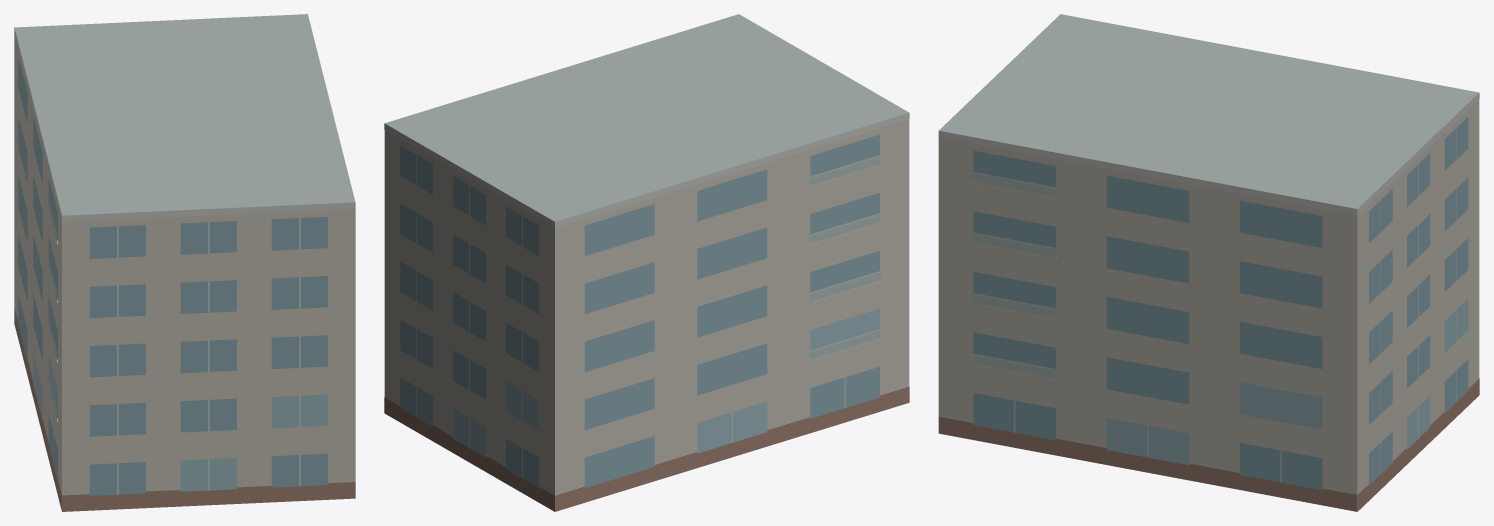
File: survey-upis-32856328.glb
3 views of the same model, side by side, from view 1: azimuth 30°, elevation 25°; view 2: azimuth 150°, elevation 25°; view 3: azimuth 270°, elevation 25° (orthographic). The views are drawn at different scales.
Visible parts, largest first — view 1: survey-upis-32856328.tmp; view 2: survey-upis-32856328.tmp; view 3: survey-upis-32856328.tmp.
Boxes of the visible parts, left/top/right/bottom form: survey-upis-32856328.tmp: left=14, top=14, right=355, bottom=511; survey-upis-32856328.tmp: left=384, top=14, right=909, bottom=511; survey-upis-32856328.tmp: left=938, top=14, right=1479, bottom=511.
Size of the model in its own units: 15.48 by 11.2 by 18.14.
